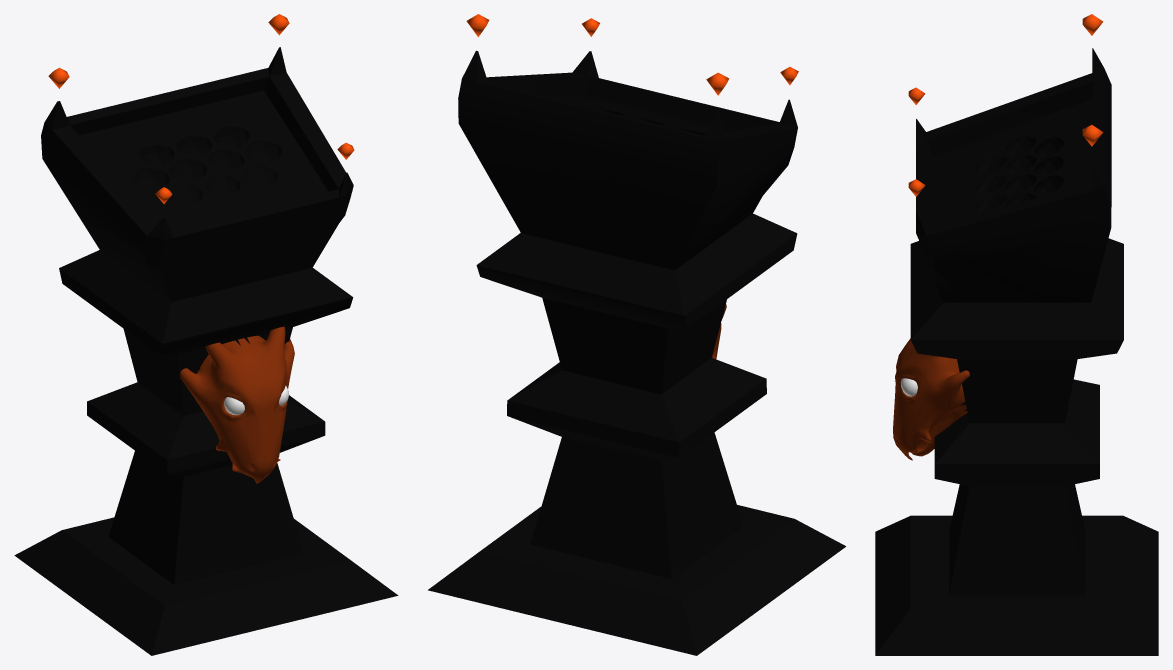
The model's file is socleDragAnimé.fbx.
3 views of the same model, side by side, from view 1: azimuth 30°, elevation 25°; view 2: azimuth 150°, elevation 25°; view 3: azimuth 270°, elevation 25° (orthographic). The views are drawn at different scales.
Parts seen in each view (by area): view 1: Box001, Sphere002; view 2: Box001, Sphere002; view 3: Box001, Sphere002.
Part boxes in pixels (x1,y1,x2,y2): Box001: (14, 47, 398, 655); Sphere002: (48, 14, 354, 203); Box001: (428, 50, 845, 655); Sphere002: (466, 14, 798, 95); Box001: (875, 48, 1158, 655); Sphere002: (908, 14, 1103, 196).
Size of the model in its own units: 30.3 by 59.56 by 29.16.
